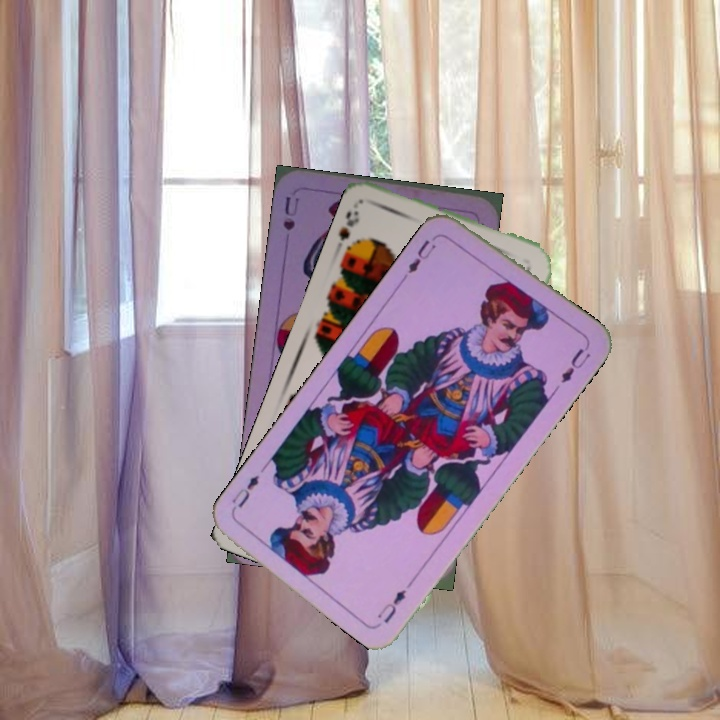EU: (399, 231, 440, 282), (373, 585, 409, 626)
S9: (339, 206, 362, 258)
SU: (279, 192, 302, 233)
